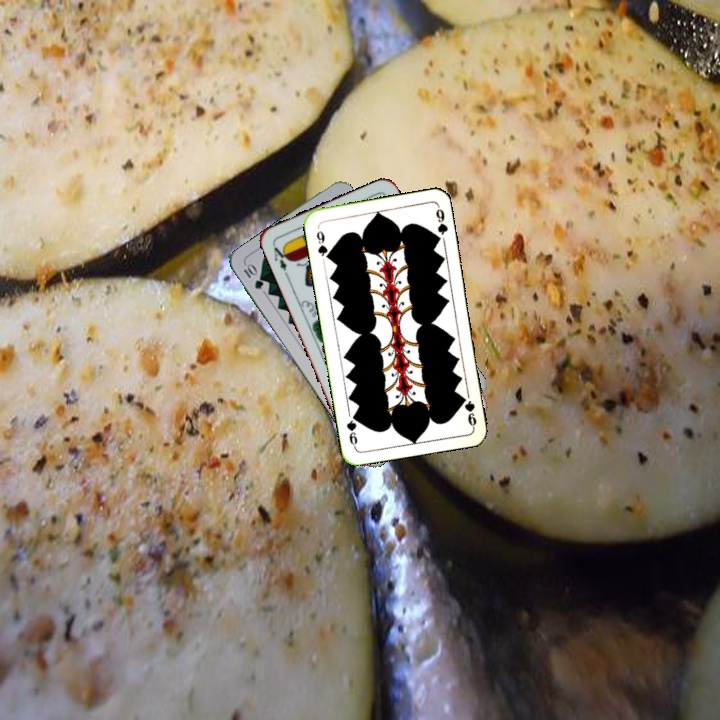EA: (269, 240, 292, 279)
G10: (239, 260, 266, 292)
G9: (458, 392, 479, 430), (312, 227, 333, 262)
